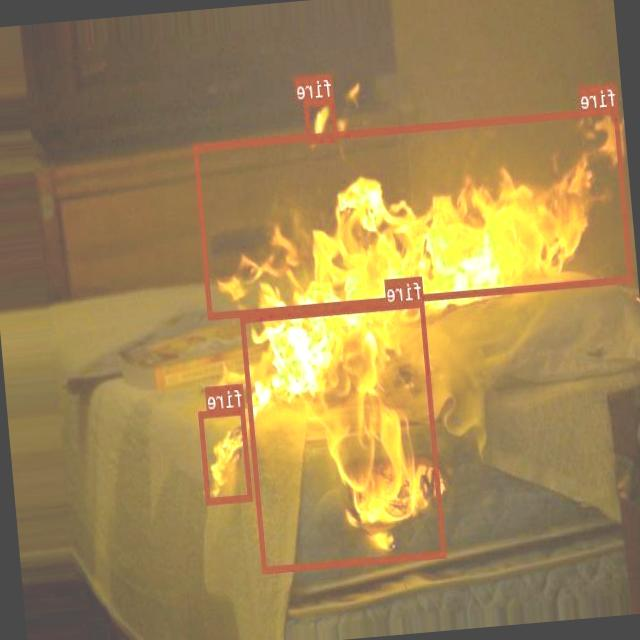fire: (194, 106, 634, 318), (241, 298, 446, 572), (200, 406, 253, 504), (304, 96, 338, 143)
